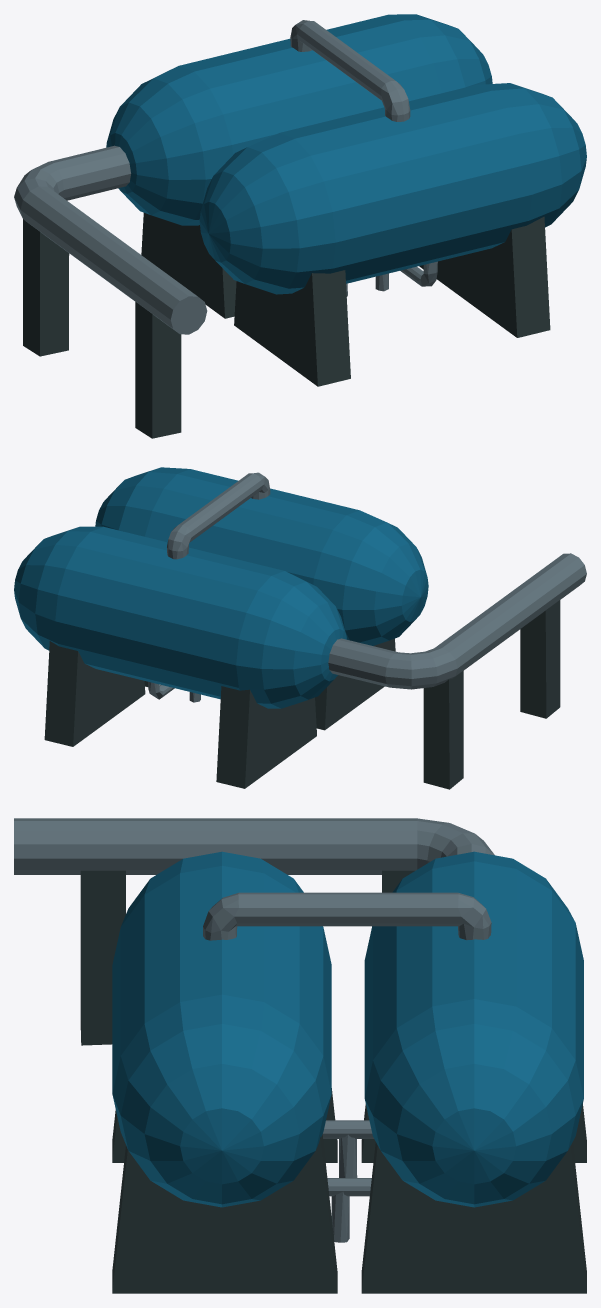
The model's file is SM_Factory_Horizontal_tank_01.glb.
3 views of the same model, one above another, from view 1: azimuth 30°, elevation 25°; view 2: azimuth 150°, elevation 25°; view 3: azimuth 270°, elevation 25° (orthographic). The views are drawn at different scales.
Visible parts, largest first — view 1: SM_Factory_Horizontal_tank_01; view 2: SM_Factory_Horizontal_tank_01; view 3: SM_Factory_Horizontal_tank_01.
Part boxes in pixels (box(x1,y1,x2,y2)): SM_Factory_Horizontal_tank_01: box(14, 14, 586, 438); SM_Factory_Horizontal_tank_01: box(14, 467, 586, 789); SM_Factory_Horizontal_tank_01: box(14, 818, 586, 1293).
Bounding box in the file's own units: 5.61 × 2.69 × 4.27.
1 material, 1 textured.
